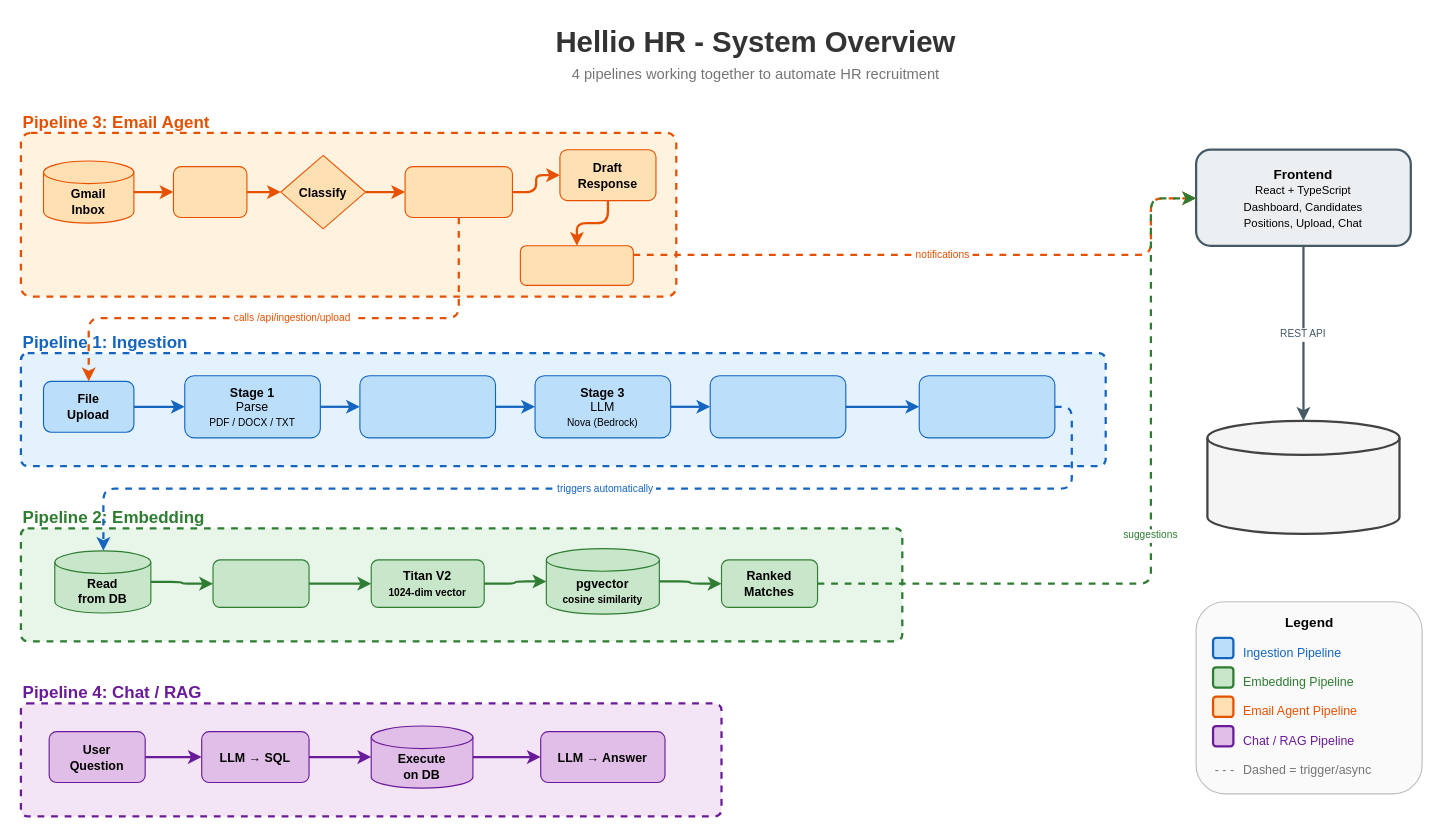
Some shapes in this 1442 by 836 pixel diagram are drawn without their labels. The shapes that lost their labels are listed below. From the top down, each one's centre as x and y in pixels, then its label:
At point (209, 192): "Poll (30s)".
At point (458, 192): "Download Attachment".
At point (576, 265): "Notify Human".
At point (427, 406): "Stage 2 Regex email, phone, name".
At point (777, 406): "Stage 4 Validate Zod schemas".
At point (986, 406): "Stage 5 Persist PostgreSQL".
At point (1303, 476): "PostgreSQL candidates, positions skills, embeddings notifications, logs".
At point (260, 583): "Text Profile".
